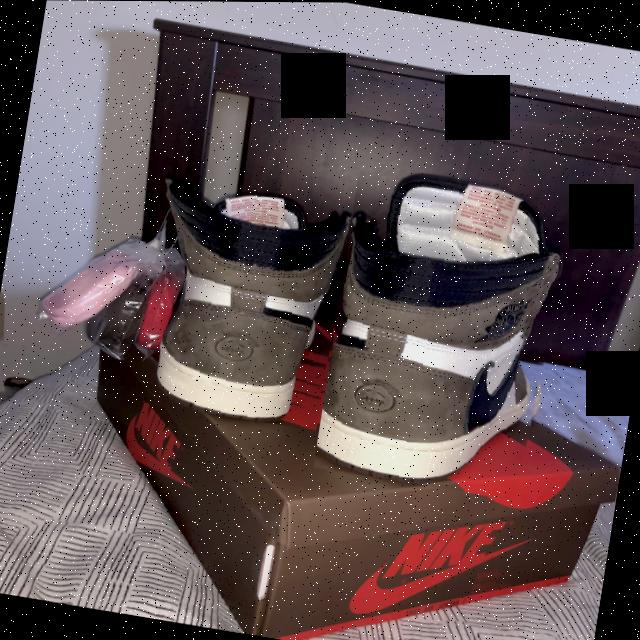shoe: (314, 158, 580, 503), (128, 124, 362, 431)
